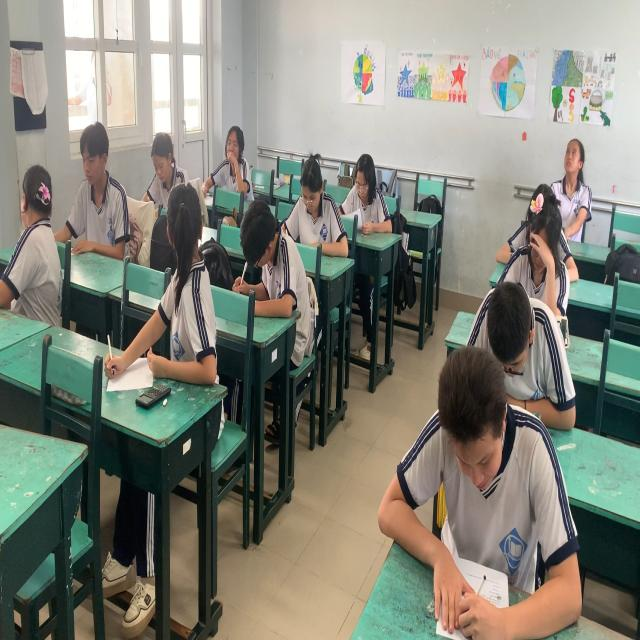cheating: (144, 192, 226, 395), (8, 161, 63, 340)
not_cheating: (388, 344, 514, 609), (72, 106, 131, 284), (229, 196, 298, 320), (482, 265, 539, 381), (343, 153, 387, 240), (294, 147, 338, 226), (134, 130, 187, 192), (218, 122, 263, 194), (522, 182, 554, 278), (554, 122, 590, 198)
